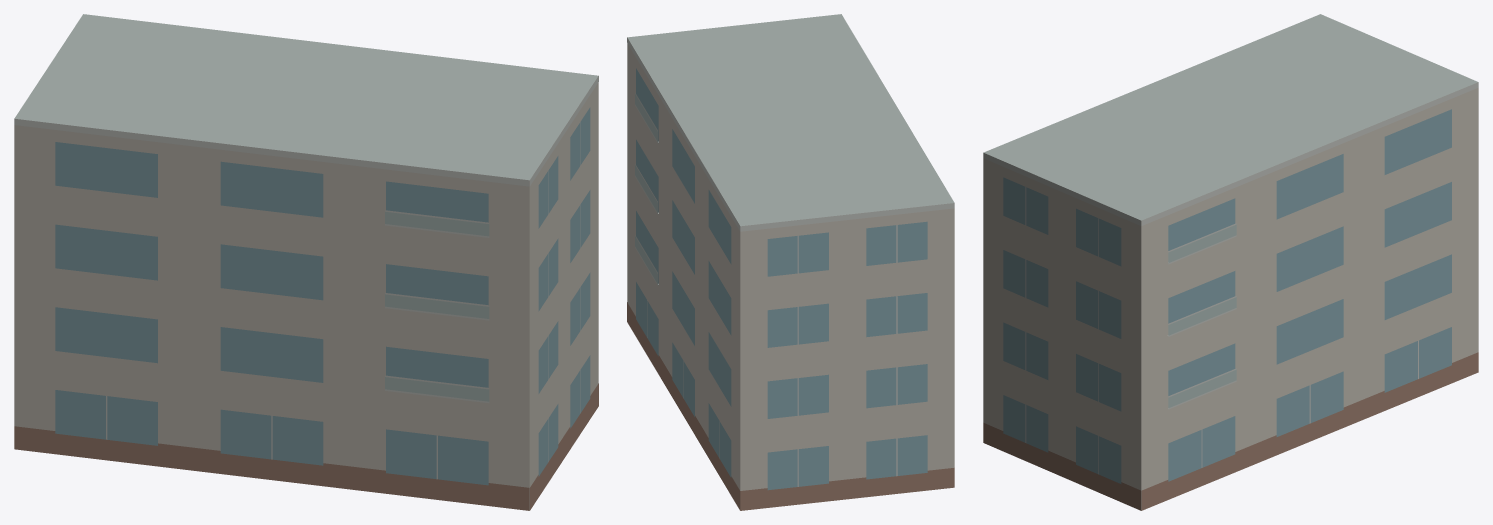
File: survey-upis-32718894.glb
3 views of the same model, side by side, from view 1: azimuth 30°, elevation 25°; view 2: azimuth 150°, elevation 25°; view 3: azimuth 270°, elevation 25° (orthographic). The views are drawn at different scales.
Parts seen in each view (by area): view 1: survey-upis-32718894.tmp; view 2: survey-upis-32718894.tmp; view 3: survey-upis-32718894.tmp.
Part boxes in pixels (bbox=[...]): survey-upis-32718894.tmp: bbox=[14, 14, 598, 510]; survey-upis-32718894.tmp: bbox=[627, 14, 954, 510]; survey-upis-32718894.tmp: bbox=[983, 14, 1478, 510].
Size of the model in its own units: 19.55 by 12.8 by 19.8.
